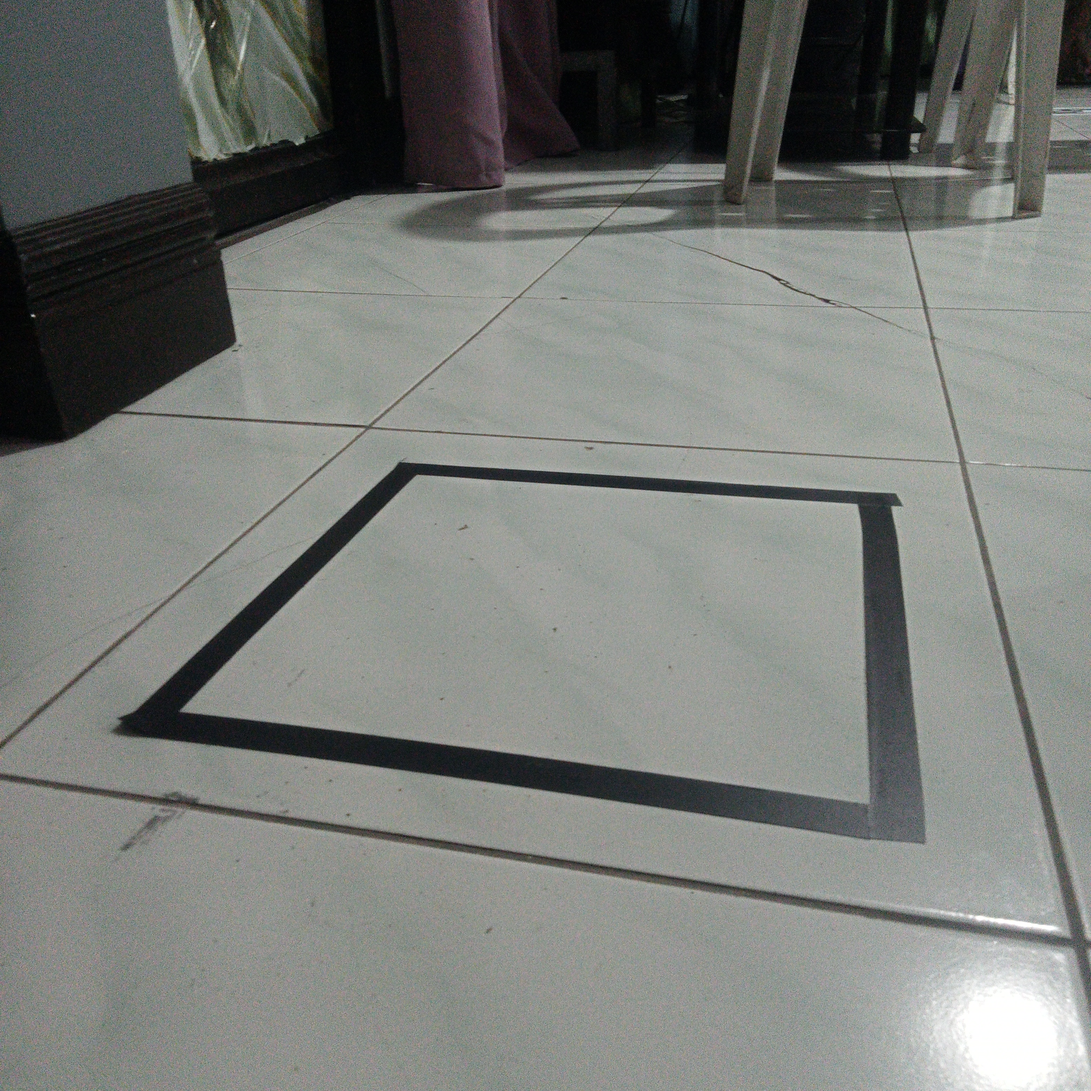parking_area: (178, 441, 913, 862)
